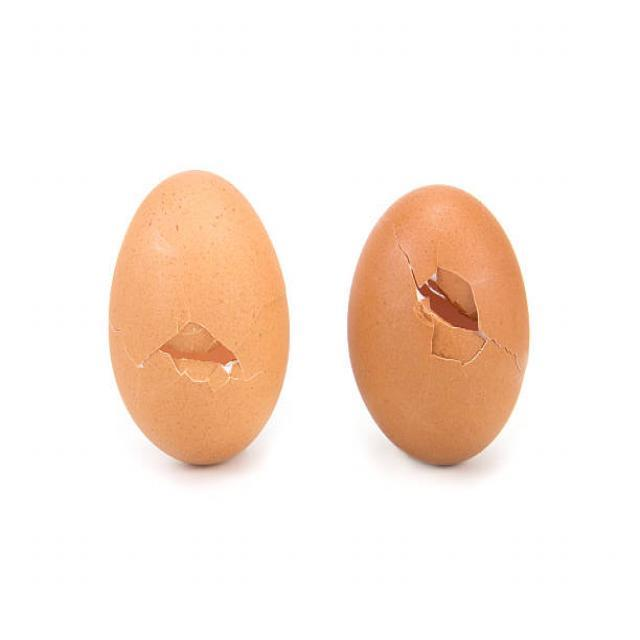biodegradable: (106, 166, 292, 466), (348, 183, 530, 469)
